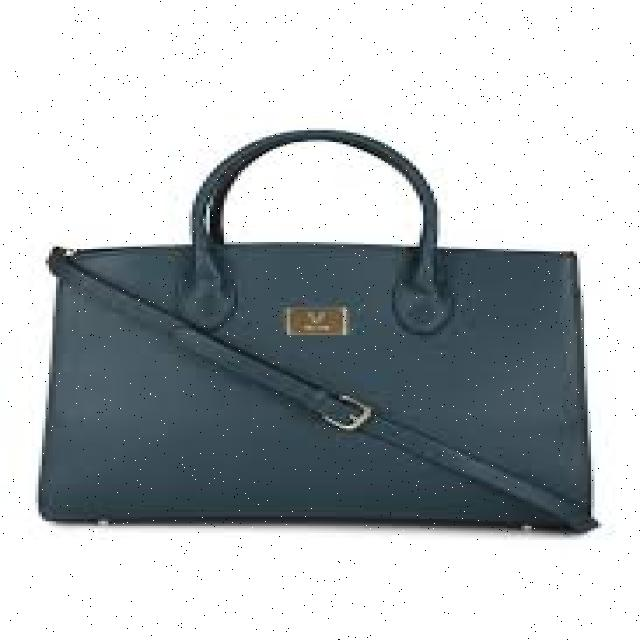handbag: (35, 126, 598, 533)
